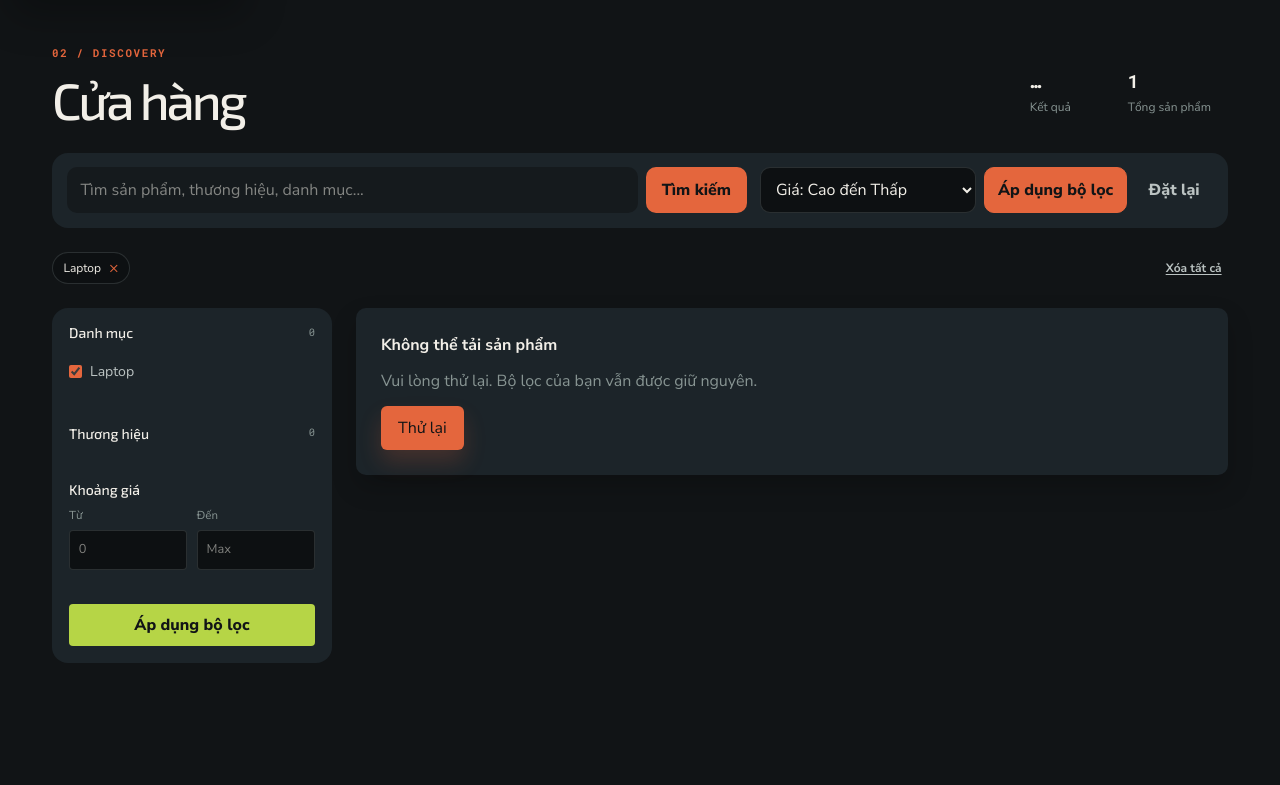
Scenario: catalog request reliability › distinguishes an API failure from empty results and recovers in vi
Expected: the message shows "Không thể tải sản phẩm", [381, 334, 557, 356]
Click the button "Thử lại" at [422, 428], box [381, 406, 464, 450]
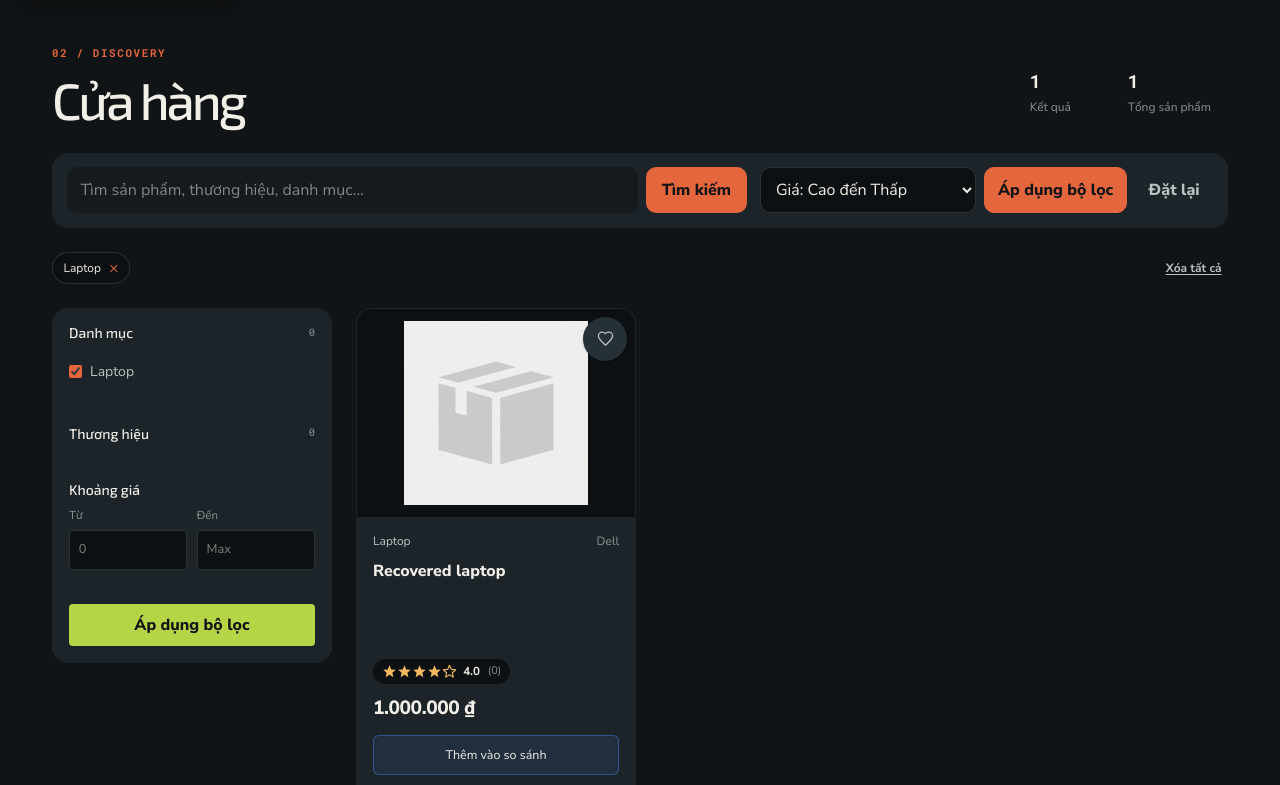
Expected: the 1st text "Laptop" is shown, [63, 259, 101, 277]
Expected: the link "Recovered laptop" is shown, [373, 560, 506, 582]
Expected: the message is gone
